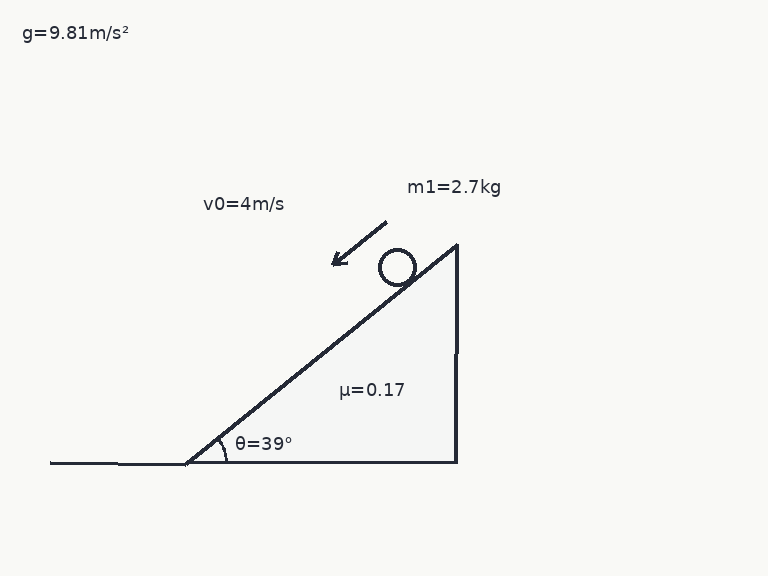ball: (376, 246, 418, 288)
ramp: (184, 243, 458, 465)
